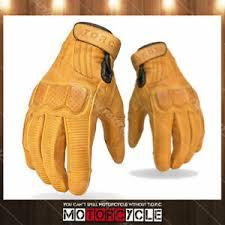gloves: (22, 21, 125, 195), (127, 40, 205, 172)
